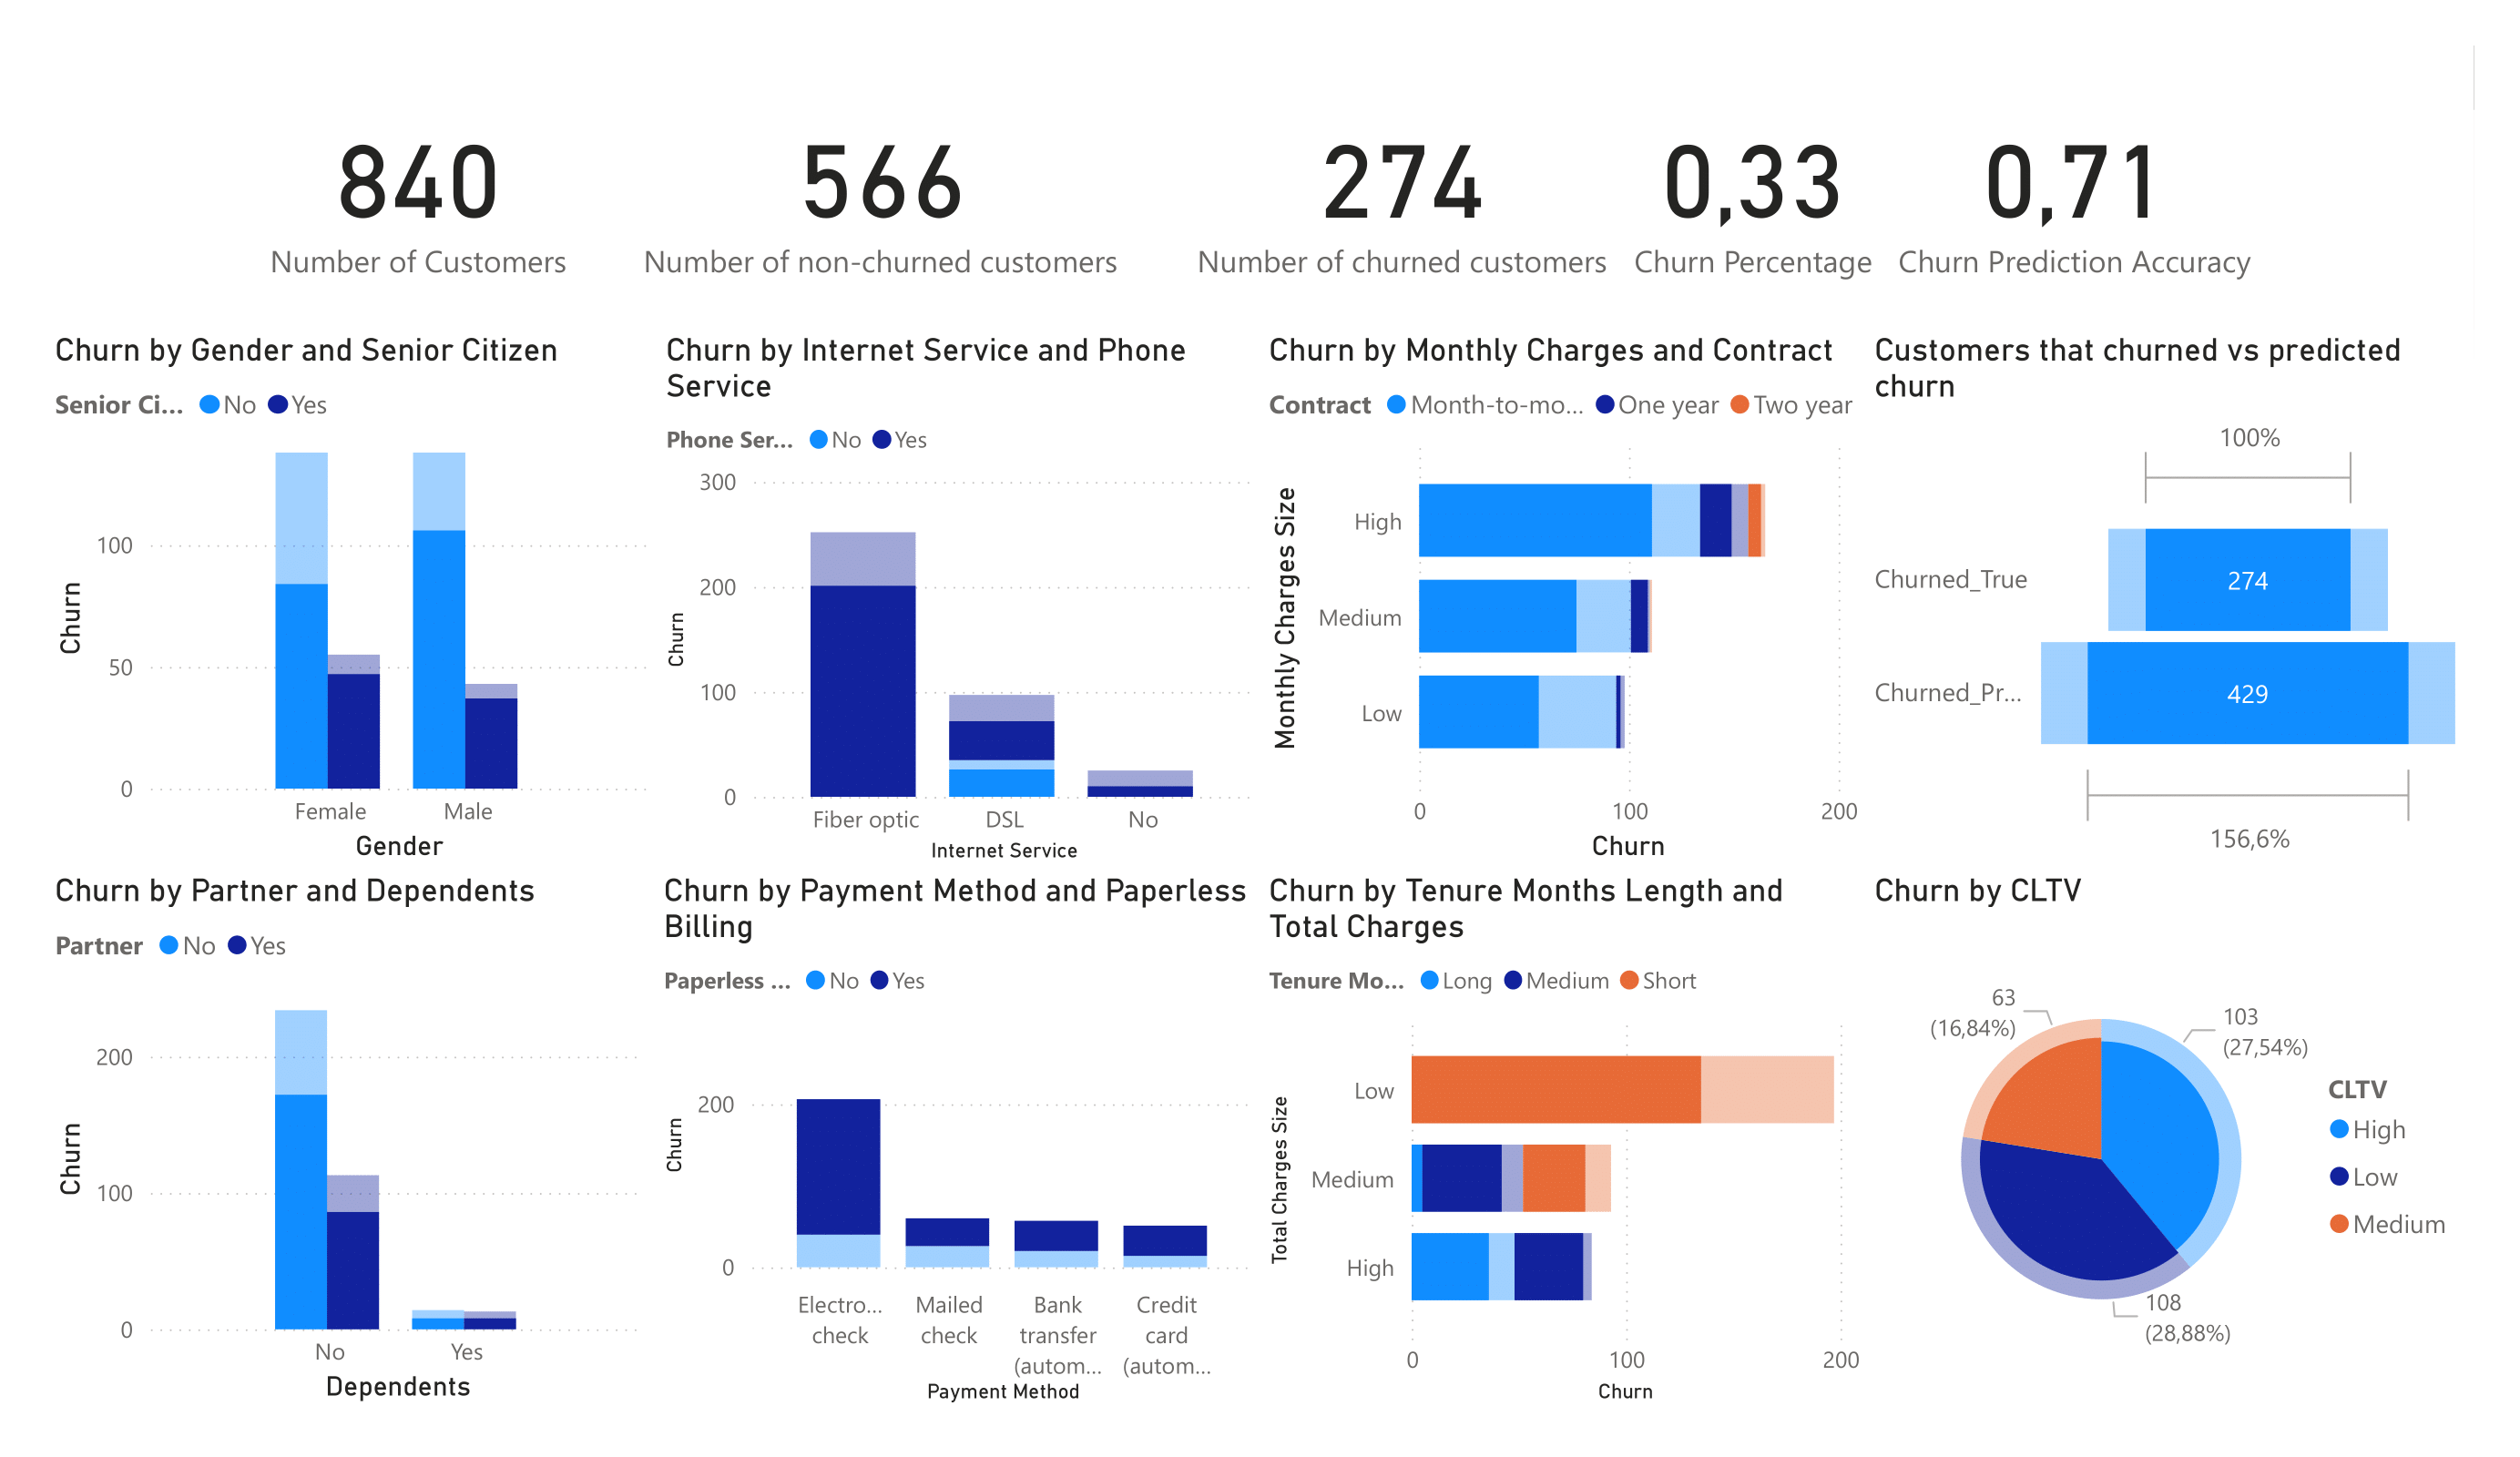

What the dashboard file says about the page in this screenshot:
{"tool":"powerbi","page":{"name":"Side 1","canvas":[1280,720],"ordinal":0},"visuals":[{"type":"card","fields":{"Values":["Avg(Forespørgsel1.y_true)"]},"box":[829.7,0,140.1,149.8],"z":0},{"type":"pieChart","title":"Churn by CLTV","fields":{"Y":["Sum(Attributes.y_true)"],"Category":["Attributes.CLTV Size"]},"box":[959,434.8,321,285],"z":1000},{"type":"card","fields":{"Values":["Attributes.Churn Prediction Accuracy"]},"box":[969.7,0,199.4,149.8],"z":2000},{"type":"barChart","title":"Churn by Tenure Months Length and Total Charges","fields":{"Category":["Attributes.Total Charges Size"],"Series":["Attributes.Tenure Months Length"],"Y":["Sum(Attributes.y_true)"]},"box":[640,434.8,321,285],"z":3000},{"type":"barChart","title":"Churn by Monthly Charges and Contract","fields":{"Category":["Attributes.Monthly Charges Size"],"Y":["Sum(Attributes.y_true)"],"Series":["Attributes.Contract"]},"box":[640,149.8,320,285],"z":4000},{"type":"columnChart","title":"Churn by Payment Method and Paperless Billing","fields":{"Category":["Attributes.Payment Method"],"Y":["Sum(Attributes.y_true)"],"Series":["Attributes.Paperless Billing"]},"box":[321,434.8,321,285],"z":5000},{"type":"columnChart","title":"Churn by Internet Service and Phone Service","fields":{"Category":["Attributes.Internet Service"],"Y":["Sum(Attributes.y_true)"],"Series":["Attributes.Phone Service"]},"box":[321.9,149.8,320,285],"z":6000},{"type":"clusteredColumnChart","title":"Churn by Partner and Dependents","fields":{"Category":["Attributes.Dependents"],"Series":["Attributes.Partner"],"Y":["Sum(Attributes.y_true)"]},"box":[0,434.8,321,285],"z":7000},{"type":"clusteredColumnChart","title":"Churn by Gender and Senior Citizen","fields":{"Category":["Attributes.Gender"],"Series":["Attributes.Senior Citizen"],"Y":["Sum(Attributes.y_true)"]},"box":[0,149.8,321.9,285],"z":8000},{"type":"funnel","title":"Customers that churned vs predicted churn","fields":{"Y":["Sum(Attributes.y_true)","Sum(Attributes.y_pred)"]},"box":[959,149.8,321,285],"z":9000},{"type":"card","fields":{"Values":["CountNonNull(Attributes.y_true)"]},"box":[110.9,0,171.2,149.8],"z":10000},{"type":"card","fields":{"Values":["CountNonNull(Attributes.y_true)"]},"box":[600.1,0,229.5,149.8],"z":11000},{"type":"card","fields":{"Values":["CountNonNull(Attributes.y_true)"]},"box":[280.1,0,320,149.8],"z":12000}]}

Visuals, with their boxes in screenshot pixels (x1, y1, x2, y2):
card - Avg(Forespørgsel1.y_true): <region>1757, 66, 2020, 346</region>
"Churn by CLTV" pieChart: <region>1999, 880, 2519, 1413</region>
card - Attributes.Churn Prediction Accuracy: <region>2019, 66, 2392, 346</region>
"Churn by Tenure Months Length and Total Charges" barChart: <region>1402, 880, 2003, 1413</region>
"Churn by Monthly Charges and Contract" barChart: <region>1402, 346, 2001, 880</region>
"Churn by Payment Method and Paperless Billing" columnChart: <region>804, 880, 1405, 1413</region>
"Churn by Internet Service and Phone Service" columnChart: <region>806, 346, 1405, 880</region>
"Churn by Partner and Dependents" clusteredColumnChart: <region>203, 880, 804, 1413</region>
"Churn by Gender and Senior Citizen" clusteredColumnChart: <region>203, 346, 806, 880</region>
"Customers that churned vs predicted churn" funnel: <region>1999, 346, 2519, 880</region>
card - CountNonNull(Attributes.y_true): <region>411, 66, 731, 346</region>
card - CountNonNull(Attributes.y_true): <region>1327, 66, 1757, 346</region>
card - CountNonNull(Attributes.y_true): <region>728, 66, 1327, 346</region>
